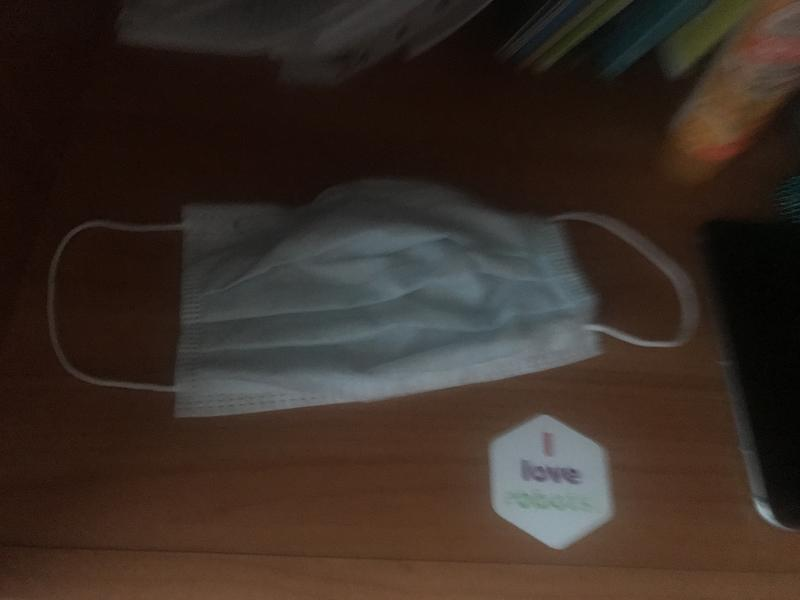medical_mask: (47, 178, 698, 416)
